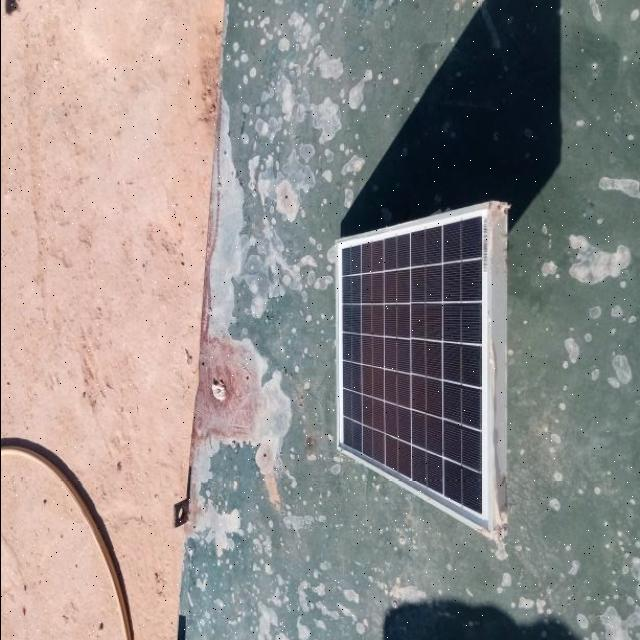Normal Solar Panel: (336, 202, 490, 538)
